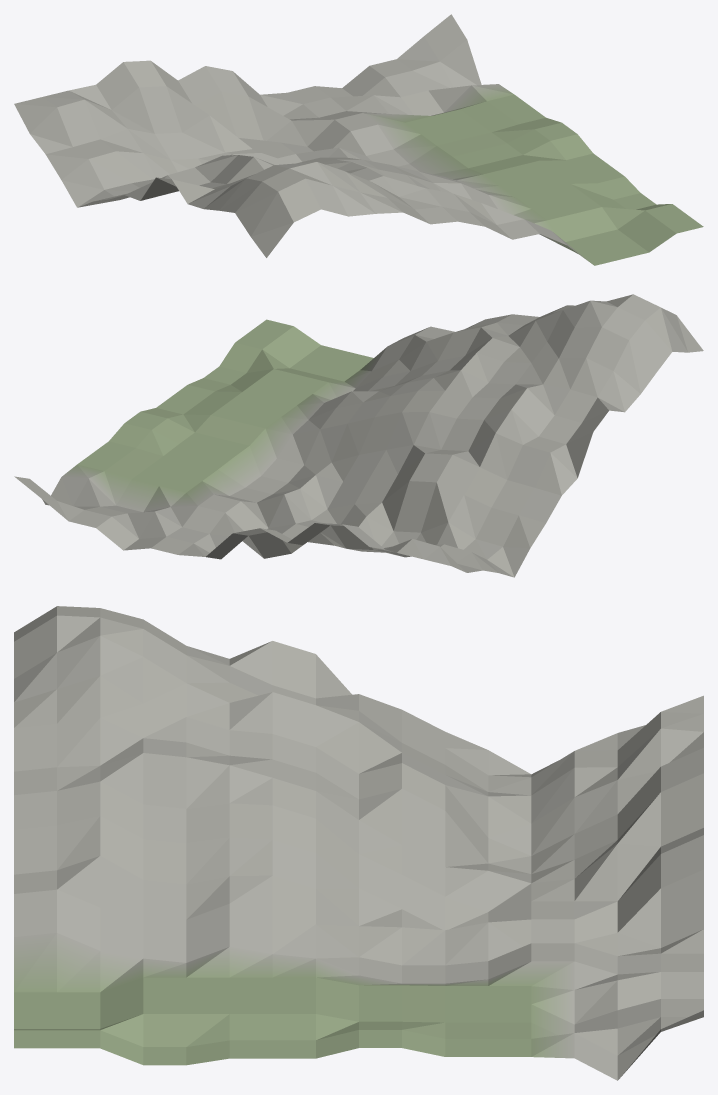
The picture shows the model from 3 angles, top to bottom: view 1: azimuth 30°, elevation 25°; view 2: azimuth 150°, elevation 25°; view 3: azimuth 270°, elevation 25°; orthographic projection. The views are drawn at different scales.
Size of the model in its own units: 32 by 10.79 by 32.
